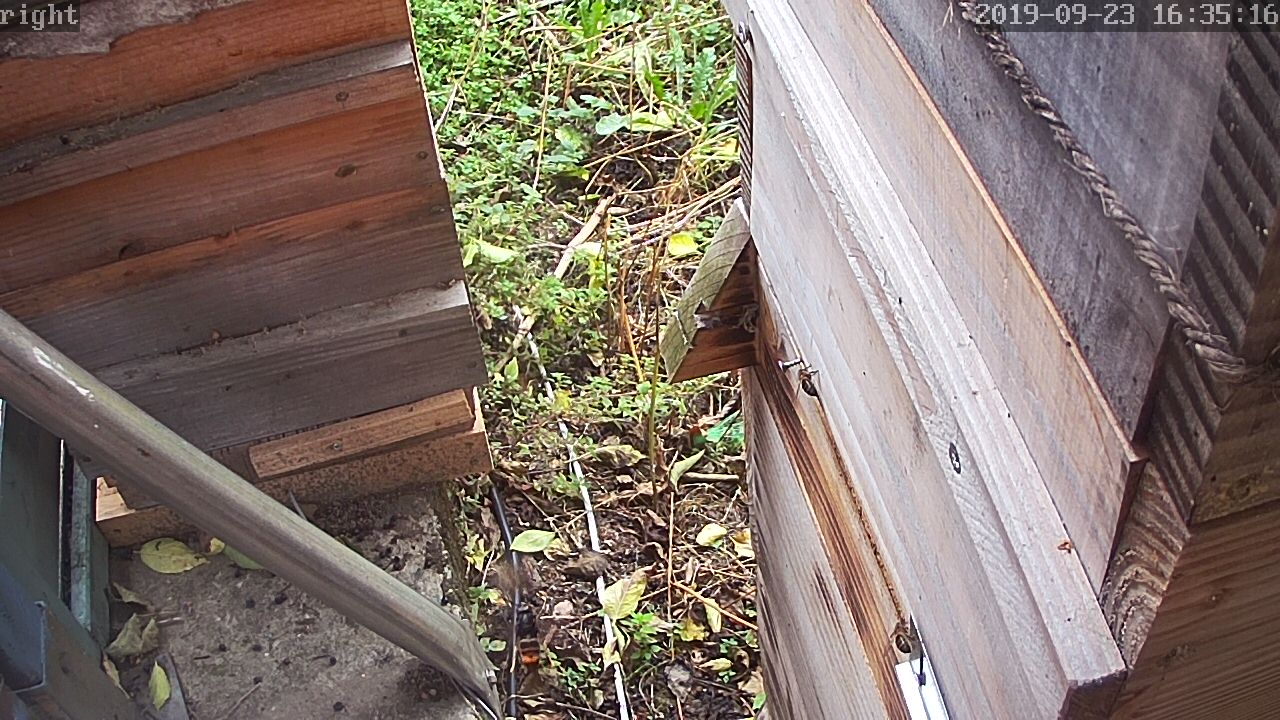bee: (882, 619, 922, 662), (786, 361, 824, 403)
hornet: (503, 595, 554, 680)
